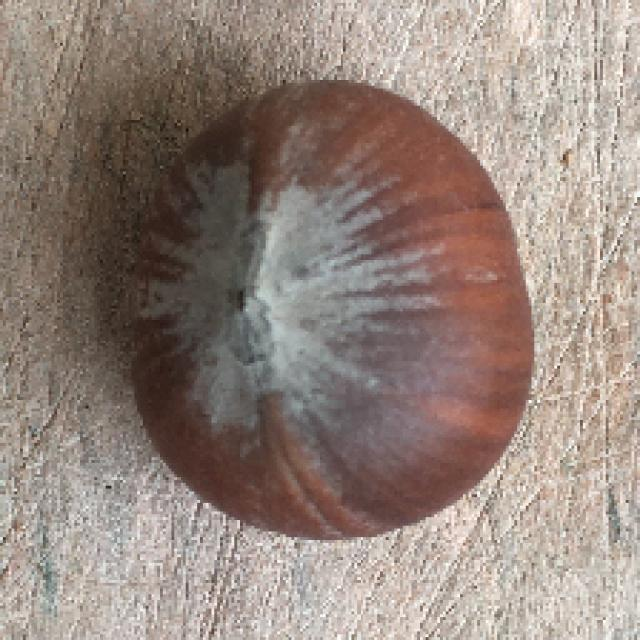qualityHazelnut: (121, 71, 540, 555)
